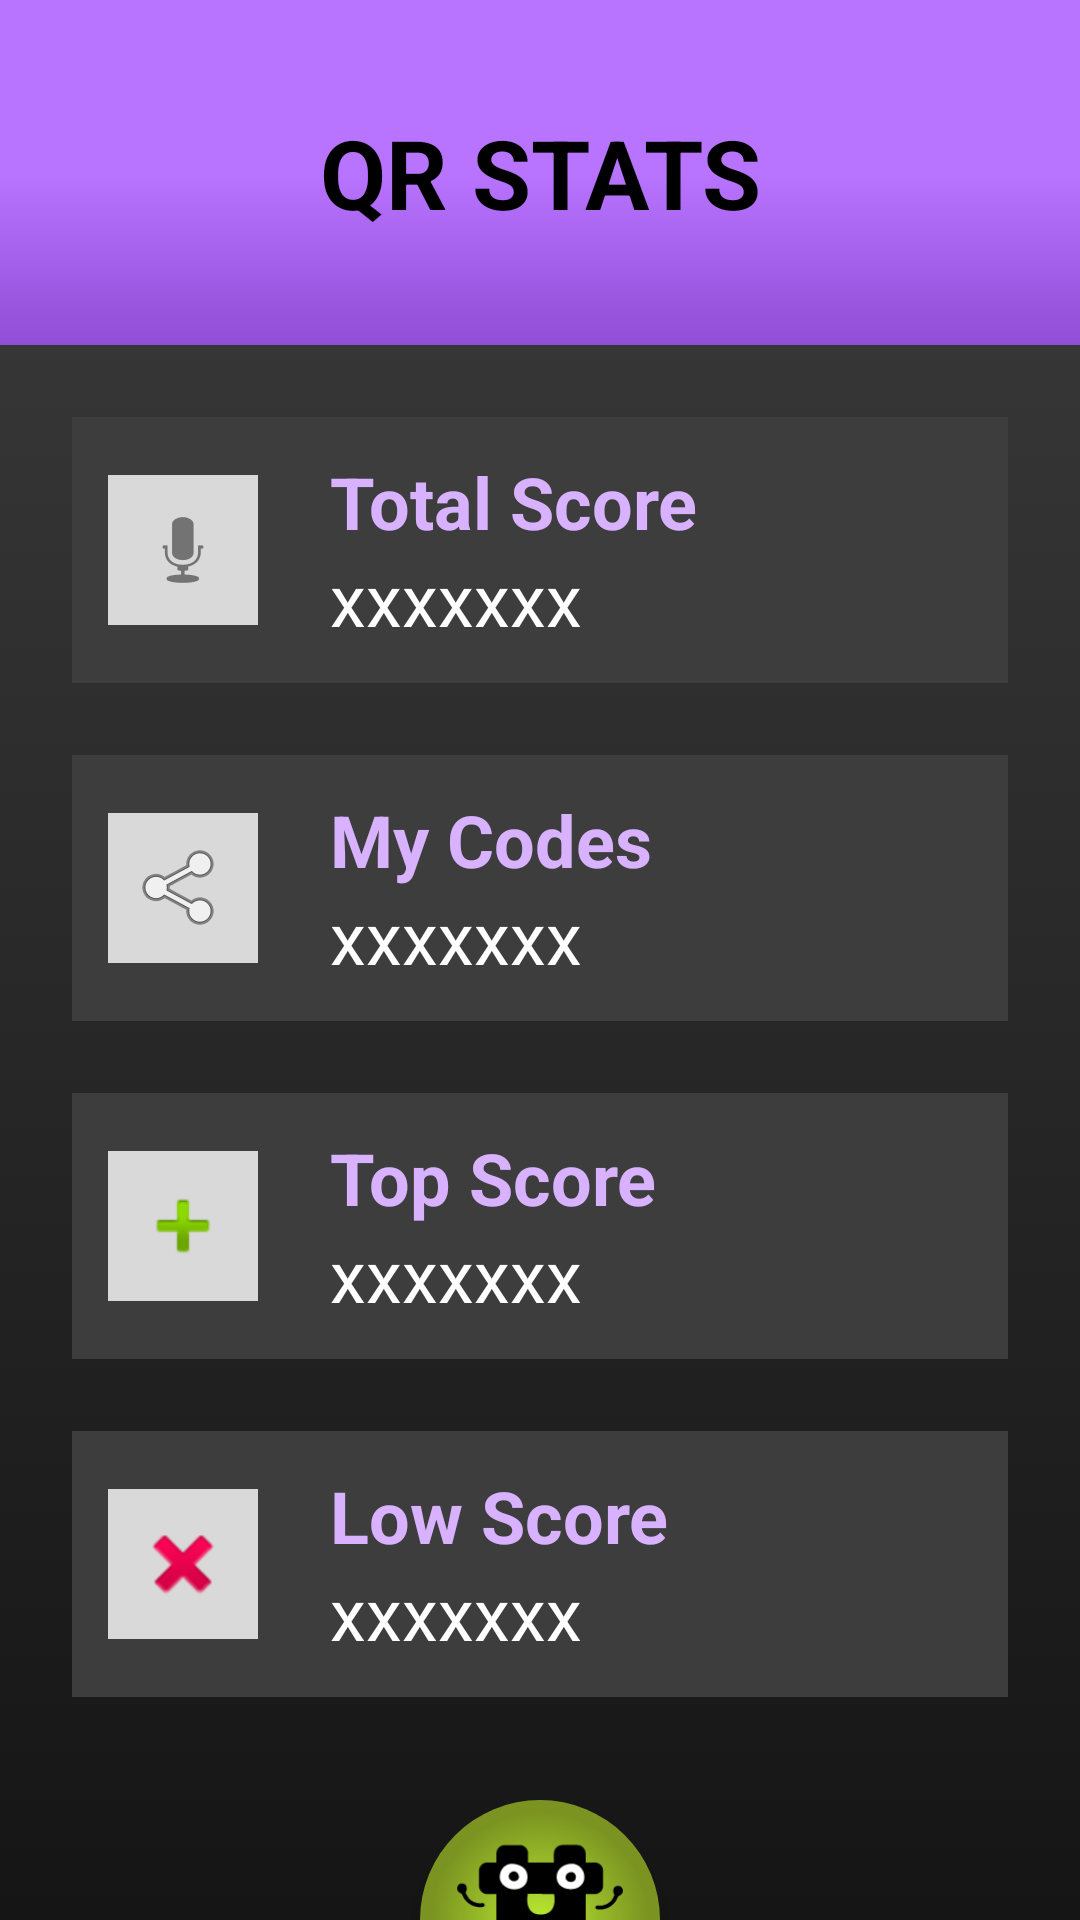

Where to tap for icons on this 1080px x 1920px app screen, as point (x, y):
add: point (183, 1226)
delete: point (183, 1564)
share: point (183, 888)
speak now: point (183, 550)
